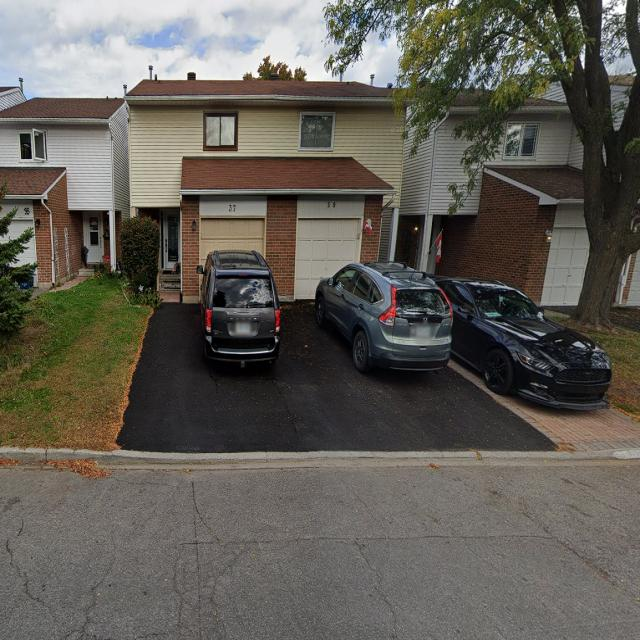Door: (158, 209, 181, 277)
curb: (0, 447, 637, 468)
obstacle: (438, 268, 611, 422), (309, 258, 454, 375), (193, 246, 284, 367)
walkways: (115, 288, 560, 453)
